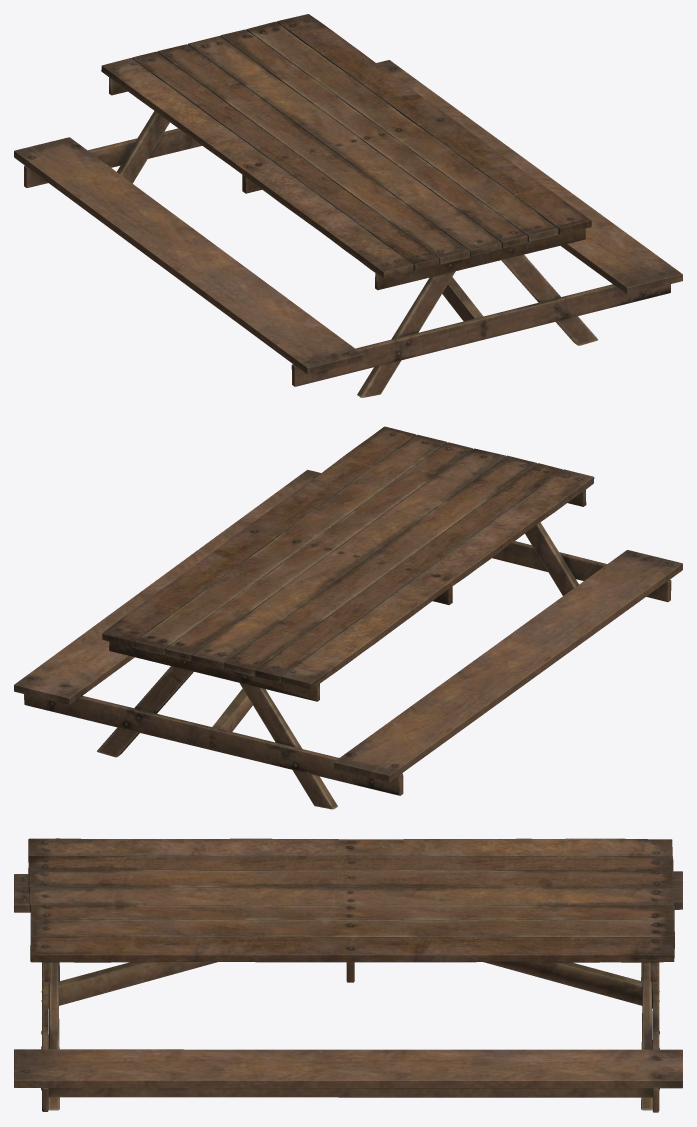
File: wooden_picnic_table.glb
The picture shows the model from 3 angles, top to bottom: view 1: azimuth 30°, elevation 25°; view 2: azimuth 150°, elevation 25°; view 3: azimuth 270°, elevation 25°; orthographic projection. The views are drawn at different scales.
Bounding box in the file's own units: 2.24 × 0.746 × 3.02.
2 materials, 2 textured.
